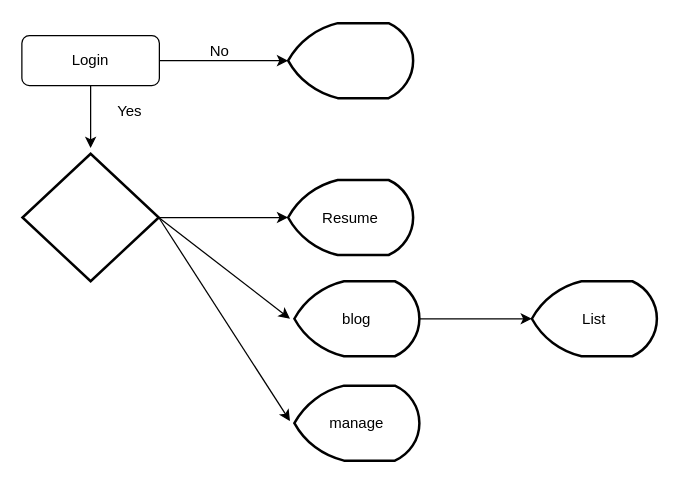
Some shapes in this 680 by 483 pixel diagram are drawn without their labels. Each missing label, with the box of its shape:
Main: (21, 152, 159, 282)
Signup: (286, 21, 414, 99)
